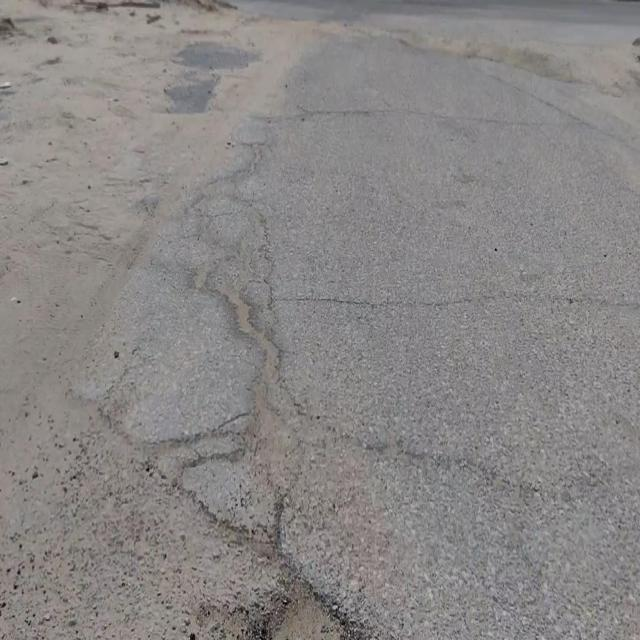Potholes: (194, 557, 368, 640)
